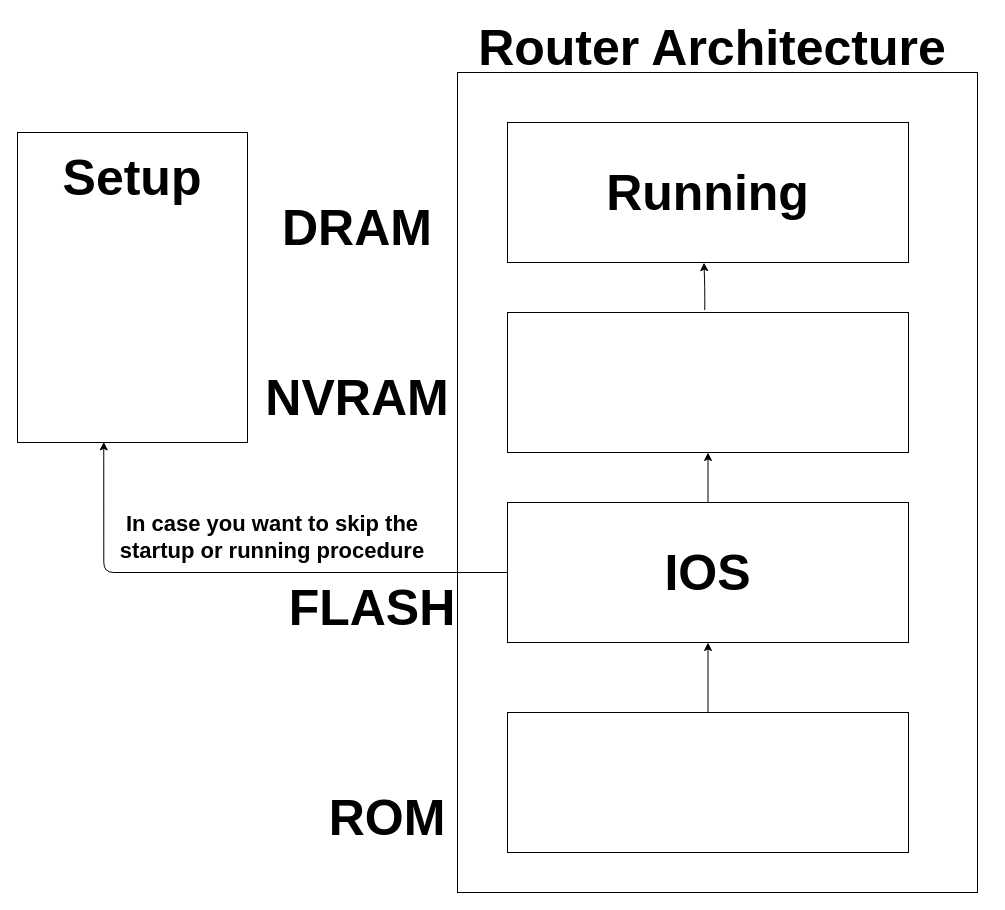
This 1005x910 diagram has some shape labels left out. Here are the shapes that lost their labels. From the top down, the centre of each, then its label:
point 707,382: Starup
point 707,782: BIOS(MiniOS, ROM MON) POST
